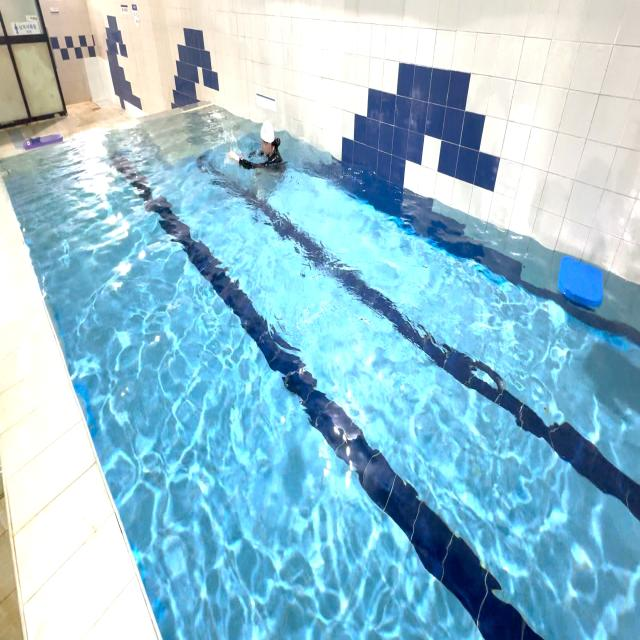Drowning: (224, 113, 289, 178)
